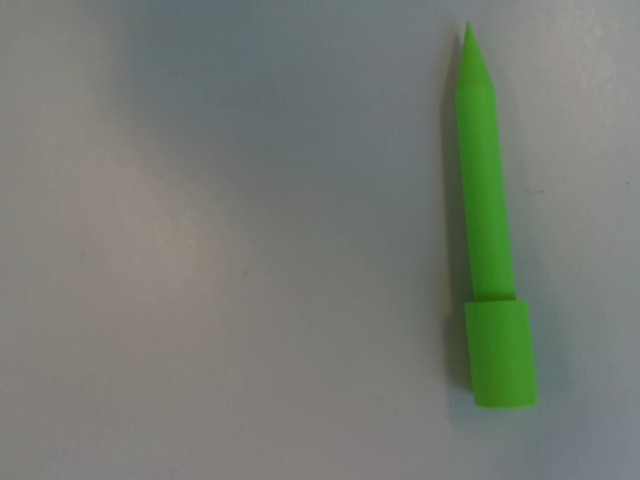Probe: (445, 16, 551, 418)
